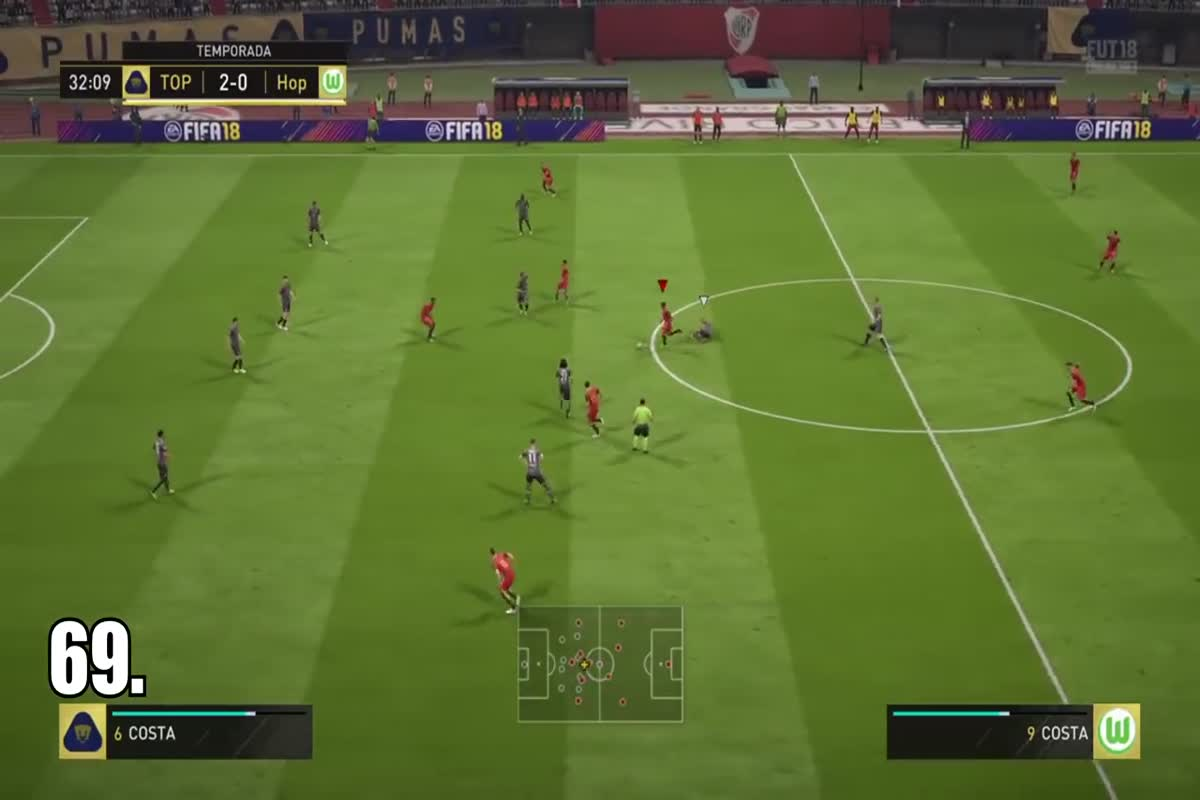ball: (627, 337, 651, 357)
